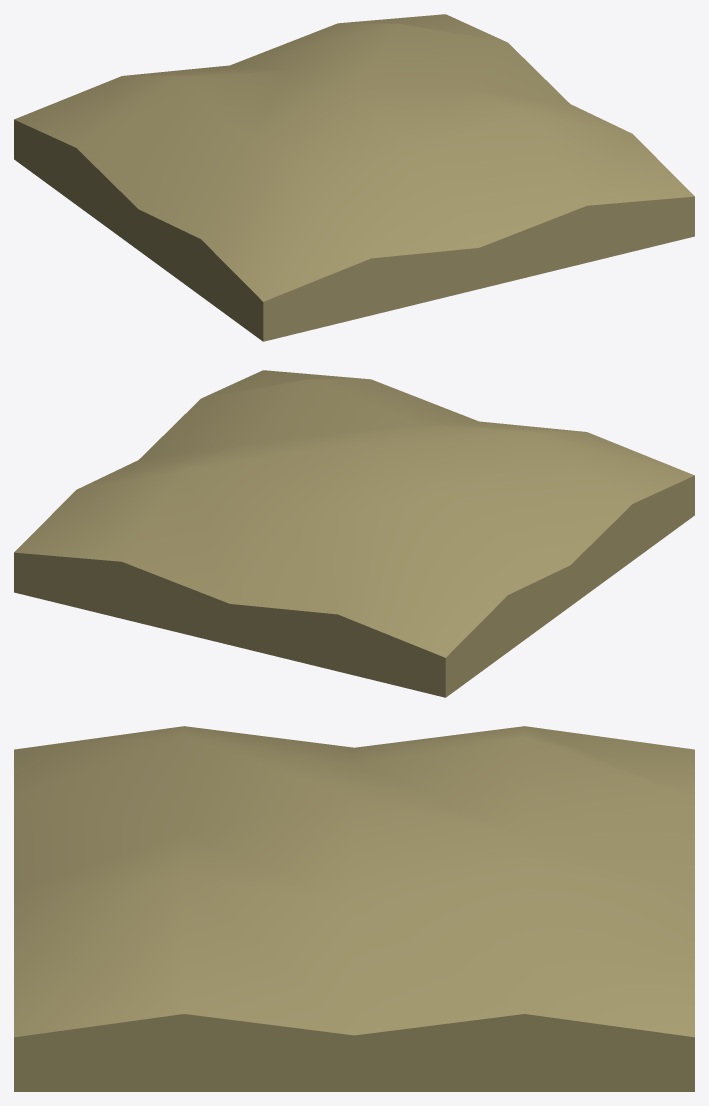
The model's file is sandHalfCubeBumpy.fbx.
3 renders of one model, top to bottom at view 1: azimuth 30°, elevation 25°; view 2: azimuth 150°, elevation 25°; view 3: azimuth 270°, elevation 25°, orthographic. The views are drawn at different scales.
Parts seen in each view (by area): view 1: sandHalfTileBumpy; view 2: sandHalfTileBumpy; view 3: sandHalfTileBumpy.
Boxes of the visible parts, bbox=[...] form: sandHalfTileBumpy: bbox=[14, 14, 694, 341]; sandHalfTileBumpy: bbox=[14, 370, 694, 697]; sandHalfTileBumpy: bbox=[14, 726, 694, 1091].
Size of the model in its own units: 100 by 24.22 by 100.
